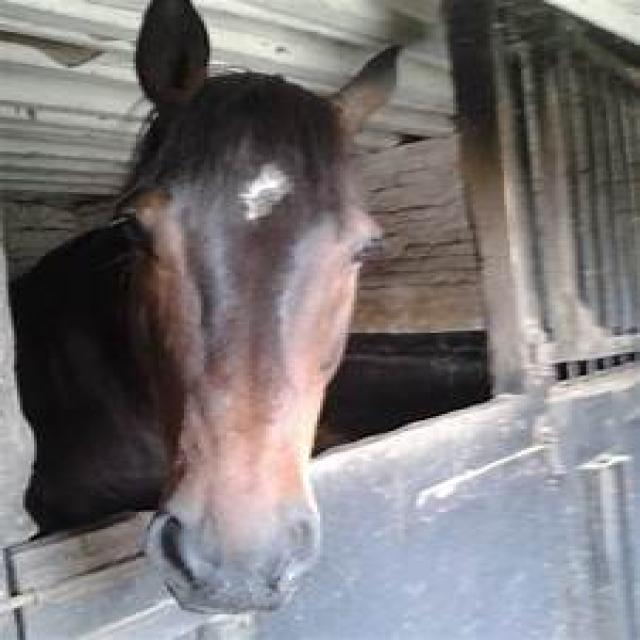horse: (8, 0, 402, 621)
